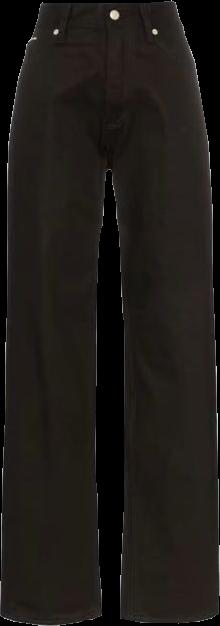Hemline: (119, 609, 219, 625), (1, 612, 101, 625)
Pantleg: (102, 3, 218, 622), (0, 2, 105, 624)
Waistline: (30, 34, 189, 50), (38, 0, 174, 7)
